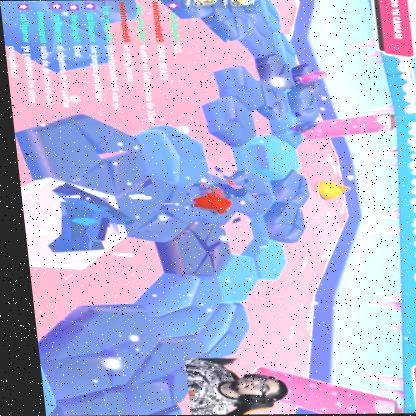streamer: (176, 357, 281, 415)
